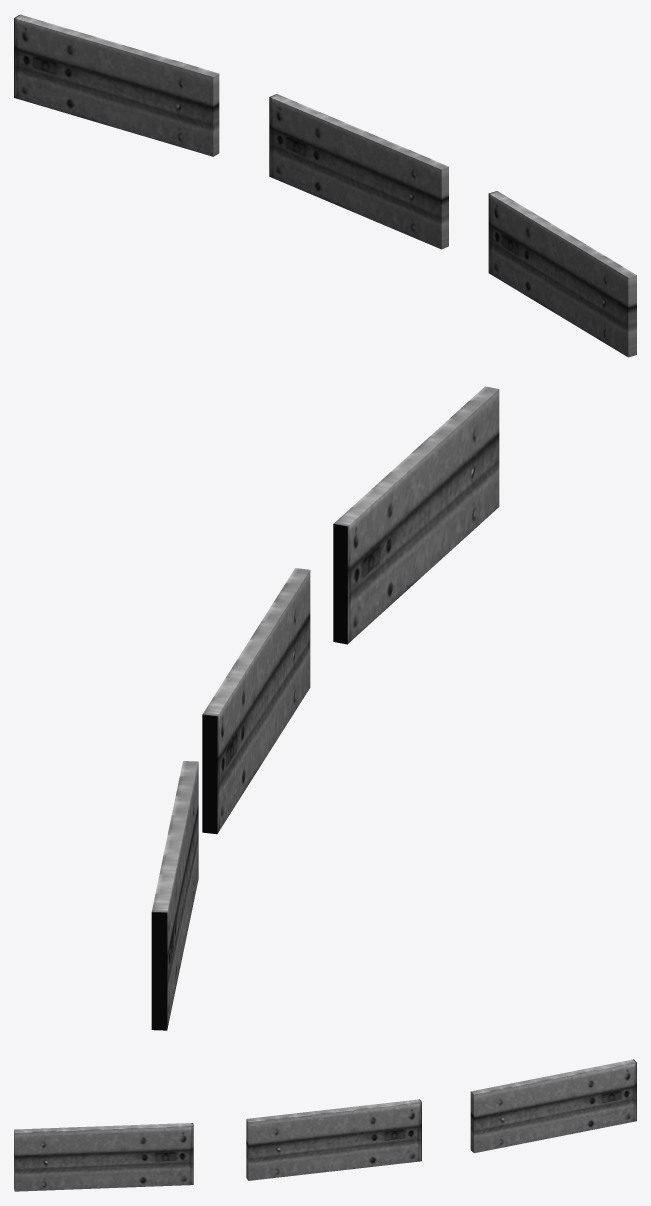
File: 30road_guard.FBX
The picture shows the model from 3 angles, top to bottom: view 1: azimuth 30°, elevation 25°; view 2: azimuth 150°, elevation 25°; view 3: azimuth 270°, elevation 25°; orthographic projection. The views are drawn at different scales.
Visible parts, largest first — view 1: Object001; view 2: Object001; view 3: Object001.
Boxes of the visible parts, left/top/right/bottom form: Object001: left=14, top=14, right=636, bottom=357; Object001: left=151, top=386, right=499, bottom=1030; Object001: left=14, top=1059, right=636, bottom=1191.
Size of the model in its own units: 257 by 96.2 by 923.
